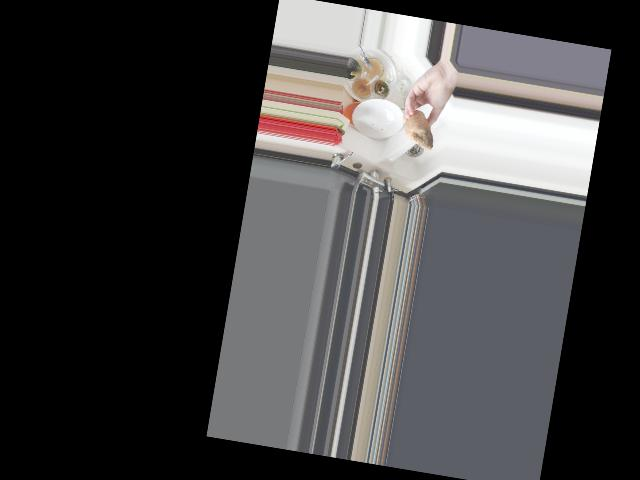sweet_potato: (400, 108, 441, 151)
